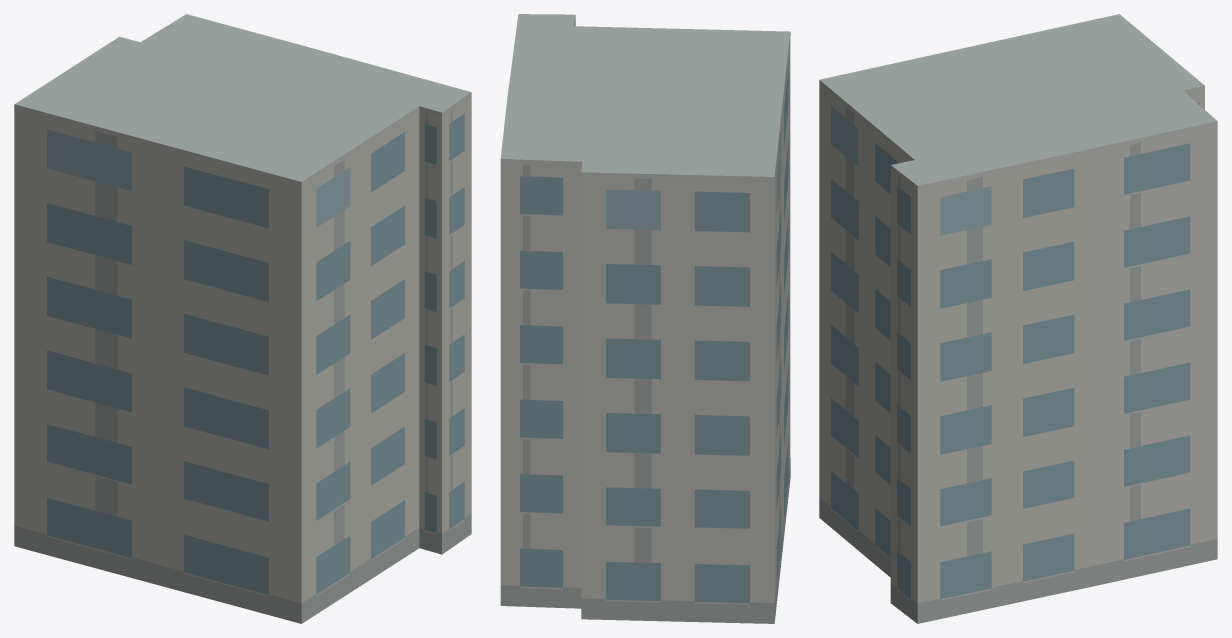
Rendered from survey-upis-32836657.glb.
3 renders of one model, left to right at view 1: azimuth 30°, elevation 25°; view 2: azimuth 150°, elevation 25°; view 3: azimuth 270°, elevation 25°, orthographic. The views are drawn at different scales.
Parts seen in each view (by area): view 1: survey-upis-32836657.tmp; view 2: survey-upis-32836657.tmp; view 3: survey-upis-32836657.tmp.
Part boxes in pixels (left/top/right/bottom): survey-upis-32836657.tmp: left=14, top=14, right=471, bottom=623; survey-upis-32836657.tmp: left=500, top=14, right=790, bottom=623; survey-upis-32836657.tmp: left=819, top=14, right=1217, bottom=623.
Size of the model in its own units: 18.63 by 22.14 by 18.25.
